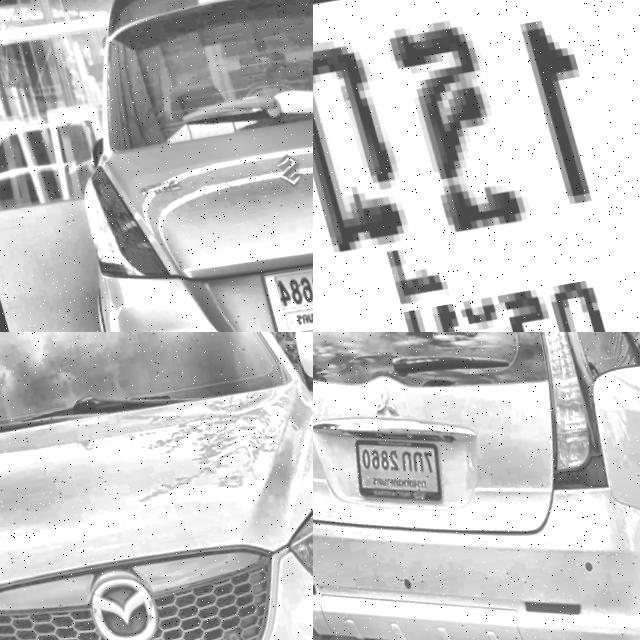license-plate: (313, 0, 640, 332), (337, 425, 444, 513), (248, 250, 313, 332)
